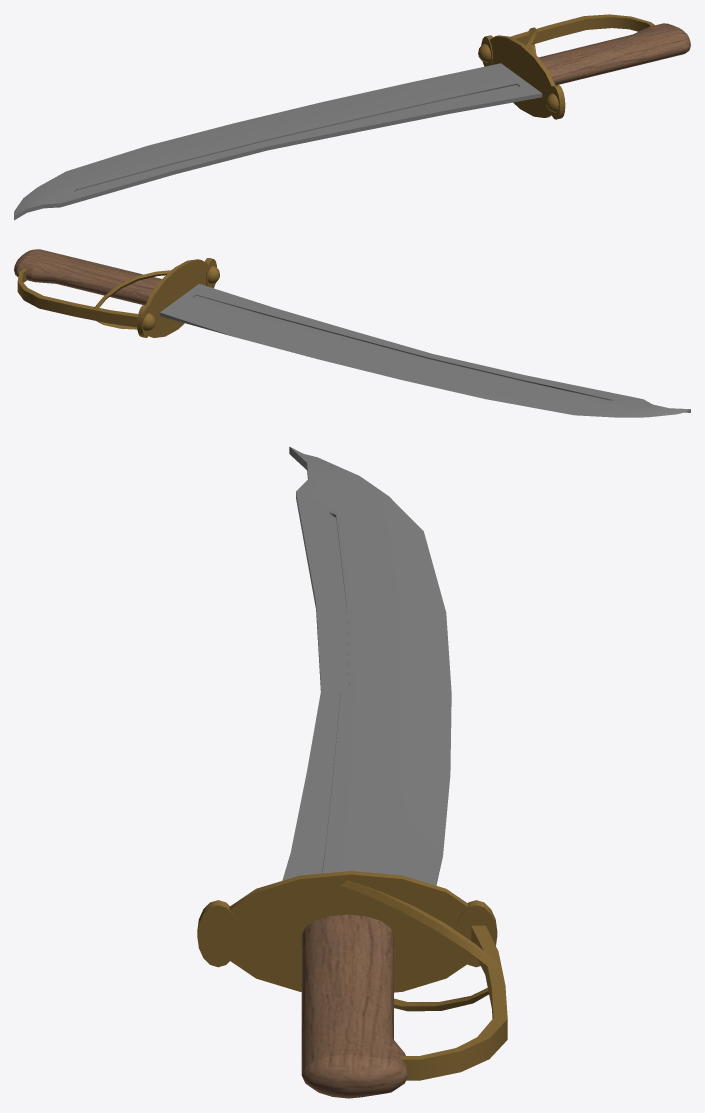
File: Character.Sword.01.fbx
3 views of the same model, one above another, from view 1: azimuth 30°, elevation 25°; view 2: azimuth 150°, elevation 25°; view 3: azimuth 270°, elevation 25° (orthographic). The views are drawn at different scales.
Parts seen in each view (by area): view 1: Cutlass; view 2: Cutlass; view 3: Cutlass.
Part boxes in pixels (x1=…): Cutlass: x1=14, y1=14, x2=690, y2=220; Cutlass: x1=14, y1=249, x2=690, y2=417; Cutlass: x1=197, y1=446, x2=507, y2=1098.
Size of the model in its own units: 62.94 by 5.6 by 12.93.
